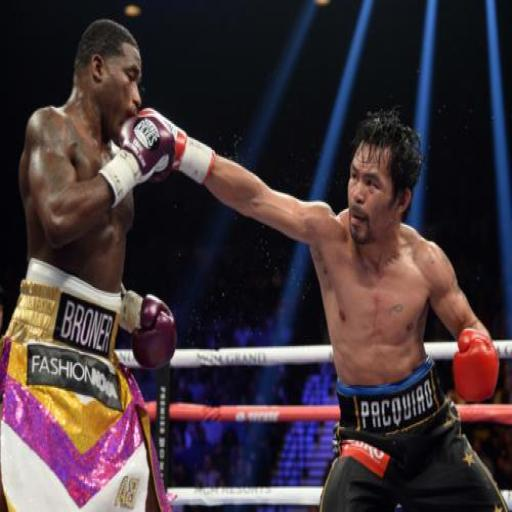boxing: (119, 102, 511, 510), (0, 37, 225, 512)
